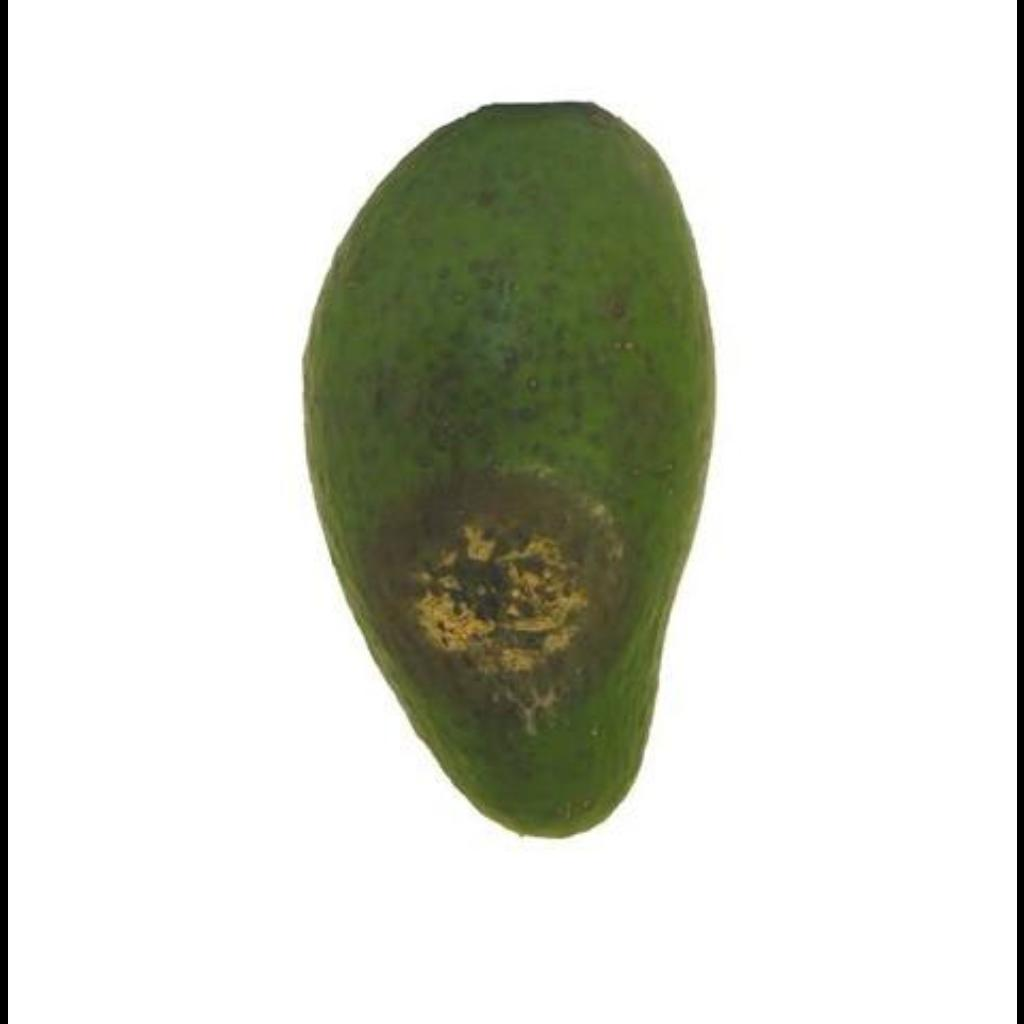Anthracnose: (314, 416, 688, 772)
